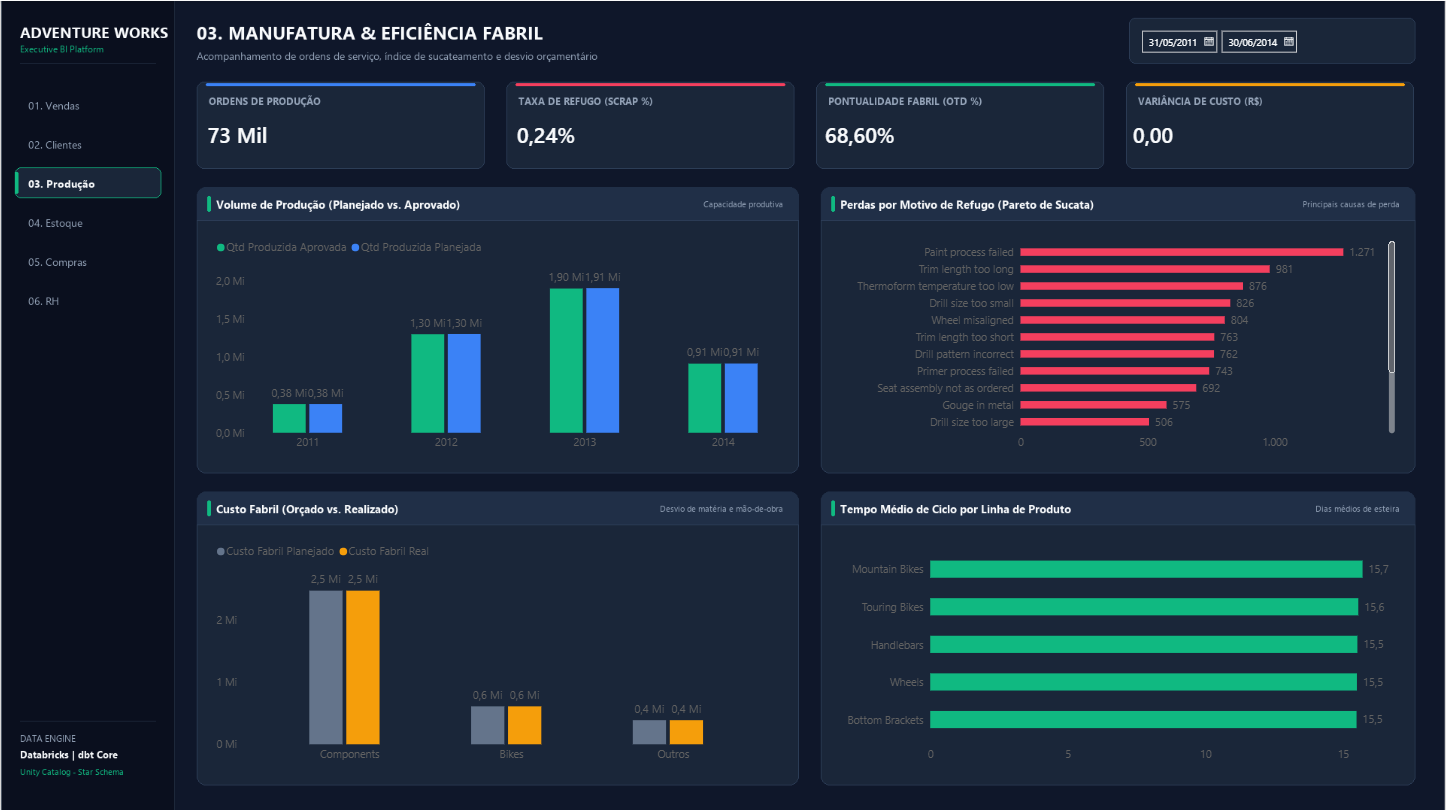

The page's visual inventory and layout, read from the dashboard file:
{"tool":"powerbi","page":{"name":"Produção","canvas":[1920,1080],"ordinal":2},"visuals":[{"type":"slicer","fields":{"Values":["dates.calendar_date"]},"box":[1510,35,360,45],"z":0},{"type":"cardVisual","fields":{"Data":["d_Medidas.Total de Ordens"]},"box":[260,140,380,75],"z":1000},{"type":"cardVisual","fields":{"Data":["d_Medidas.Taxa de Refugo %"]},"box":[670,140,380,75],"z":2000},{"type":"cardVisual","fields":{"Data":["d_Medidas.Pontualidade Produção %"]},"box":[1080,140,380,75],"z":3000},{"type":"cardVisual","fields":{"Data":["d_Medidas.Variância de Custo Fabril"]},"box":[1490,140,380,75],"z":4000},{"type":"clusteredColumnChart","fields":{"Category":["dates.calendar_date.Variation.Hierarquia de datas.Ano","dates.calendar_date.Variation.Hierarquia de datas.Mês"],"Y":["d_Medidas.Qtd Produzida Aprovada","d_Medidas.Qtd Produzida Planejada"]},"box":[270,298,780,320],"z":5000},{"type":"clusteredBarChart","fields":{"Category":["work_orders.scrap_reason_name"],"Y":["d_Medidas.Qtd Refugo (Scrap)"]},"box":[1100,298,770,320],"z":6000},{"type":"clusteredColumnChart","fields":{"Category":["products.category_name"],"Y":["d_Medidas.Custo Fabril Planejado","d_Medidas.Custo Fabril Real"]},"box":[270,702,780,330],"z":7000},{"type":"clusteredBarChart","fields":{"Category":["products.product_line_code","products.subcategory_name"],"Y":["d_Medidas.Tempo Médio de Ciclo (Dias)"]},"box":[1100,702,770,330],"z":8000}]}

Visuals, with their boxes on the page's 1920x1080 design canvas (x1, y1, x2, y2). These are canvas units, not pixel positions in the 1446x810 screenshot, which may show the page scaled, cropped or inside an application window:
slicer - dates.calendar_date: [left=1510, top=35, right=1870, bottom=80]
cardVisual - d_Medidas.Total de Ordens: [left=260, top=140, right=640, bottom=215]
cardVisual - d_Medidas.Taxa de Refugo %: [left=670, top=140, right=1050, bottom=215]
cardVisual - d_Medidas.Pontualidade Produção %: [left=1080, top=140, right=1460, bottom=215]
cardVisual - d_Medidas.Variância de Custo Fabril: [left=1490, top=140, right=1870, bottom=215]
clusteredColumnChart - dates.calendar_date.Variation.Hierarquia de datas.Ano x dates.calendar_date.Variation.Hierarquia de datas.Mês: [left=270, top=298, right=1050, bottom=618]
clusteredBarChart - work_orders.scrap_reason_name x d_Medidas.Qtd Refugo (Scrap): [left=1100, top=298, right=1870, bottom=618]
clusteredColumnChart - products.category_name x d_Medidas.Custo Fabril Planejado: [left=270, top=702, right=1050, bottom=1032]
clusteredBarChart - products.product_line_code x products.subcategory_name: [left=1100, top=702, right=1870, bottom=1032]
